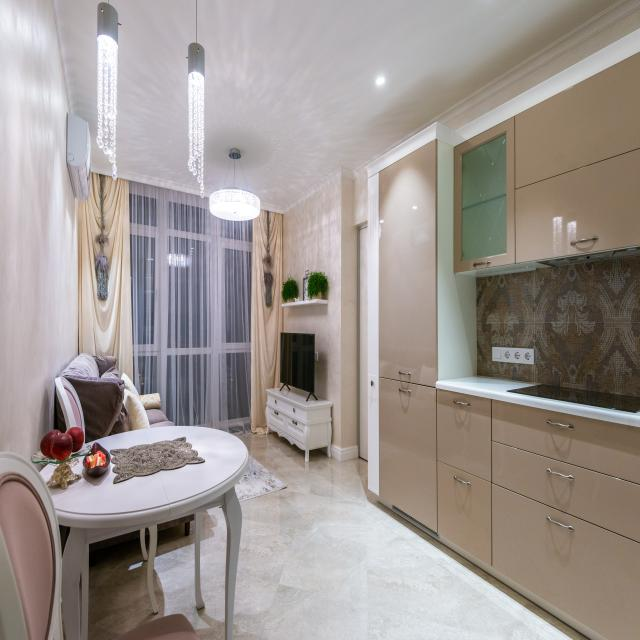floor: (233, 433, 583, 640), (232, 433, 439, 640), (87, 505, 227, 640), (153, 508, 226, 639), (88, 539, 153, 639)
wall: (367, 129, 439, 542), (476, 258, 640, 396), (282, 177, 342, 462), (436, 122, 478, 380), (341, 177, 359, 462), (353, 172, 368, 225)
